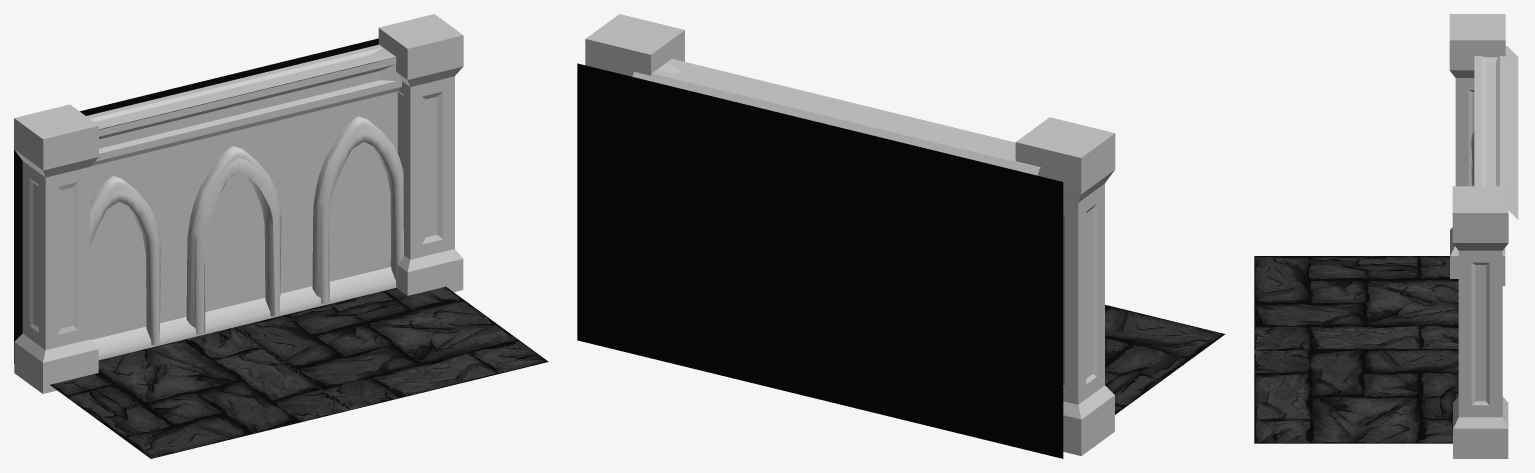
Rendered from Walls.FBX.
3 views of the same model, side by side, from view 1: azimuth 30°, elevation 25°; view 2: azimuth 150°, elevation 25°; view 3: azimuth 270°, elevation 25° (orthographic). The views are drawn at different scales.
Visible parts, largest first — view 1: Floor2, Bricks2, Floor1, Trims, Pllar1, Bricks1, Pillar 2, Arch2, Arch3, Blackground, Arch1; view 2: Blackground, Pllar1, Trims, Floor1, Pillar 2; view 3: Floor2, Floor1, Pillar 2, Trims, Pllar1.
Boxes of the visible parts, x1=… form: Floor2: x1=236, y1=286, x2=548, y2=410; Bricks2: x1=231, y1=91, x2=397, y2=305; Floor1: x1=50, y1=327, x2=349, y2=458; Trims: x1=86, y1=44, x2=401, y2=360; Pllar1: x1=14, y1=104, x2=98, y2=393; Bricks1: x1=90, y1=132, x2=231, y2=339; Pillar 2: x1=378, y1=14, x2=463, y2=295; Arch2: x1=186, y1=146, x2=281, y2=335; Arch3: x1=312, y1=116, x2=403, y2=304; Blackground: x1=14, y1=38, x2=379, y2=363; Arch1: x1=90, y1=176, x2=161, y2=345; Blackground: x1=577, y1=63, x2=1063, y2=458; Pllar1: x1=1015, y1=117, x2=1115, y2=455; Trims: x1=632, y1=59, x2=1040, y2=175; Floor1: x1=1105, y1=305, x2=1225, y2=414; Pillar 2: x1=585, y1=14, x2=684, y2=76; Floor2: x1=1254, y1=349, x2=1458, y2=443; Floor1: x1=1254, y1=256, x2=1458, y2=349; Pillar 2: x1=1452, y1=186, x2=1508, y2=458; Trims: x1=1474, y1=46, x2=1518, y2=219; Pllar1: x1=1449, y1=14, x2=1505, y2=286.
Size of the model in its own units: 170 by 97.97 by 95.95.
